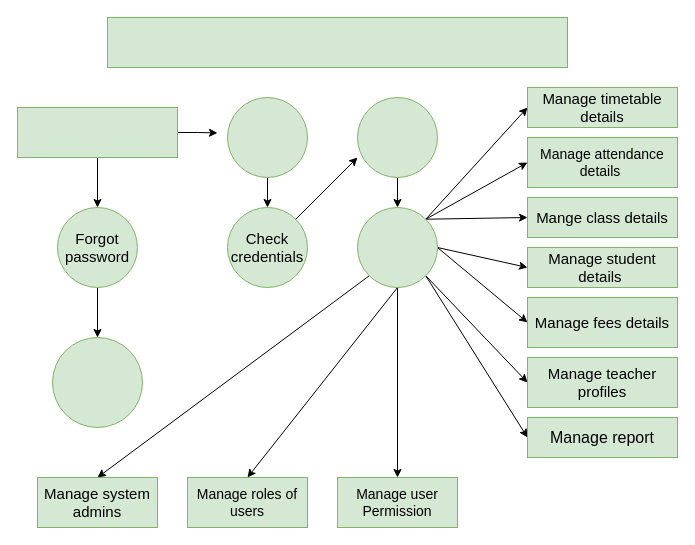
This 695x545 diagram has some shape labels left out. The shapes that lost their labels are listed below. From the top down, each one's box as (x1, y1, x2, y2) in pixels, then its label:
(106, 16, 568, 68): Student Information System
(16, 106, 178, 158): Admin
(226, 96, 308, 178): Login to system
(356, 96, 438, 178): Check roles of access
(356, 206, 438, 288): Manage modules
(52, 336, 142, 428): Send email to user
